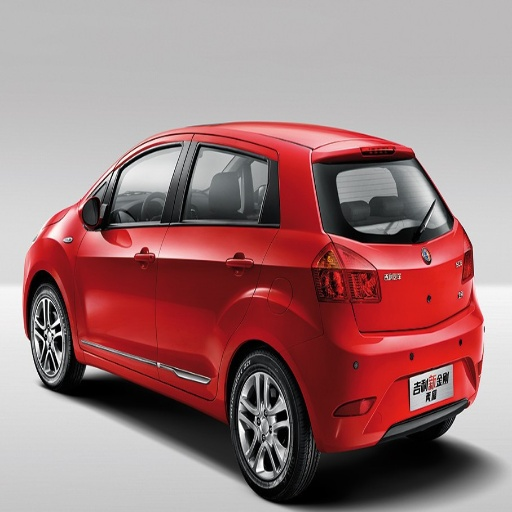back_bumper: (293, 308, 483, 448)
back_glass: (326, 160, 449, 241)
back_left_door: (157, 137, 274, 399)
trunk: (343, 236, 468, 369)
